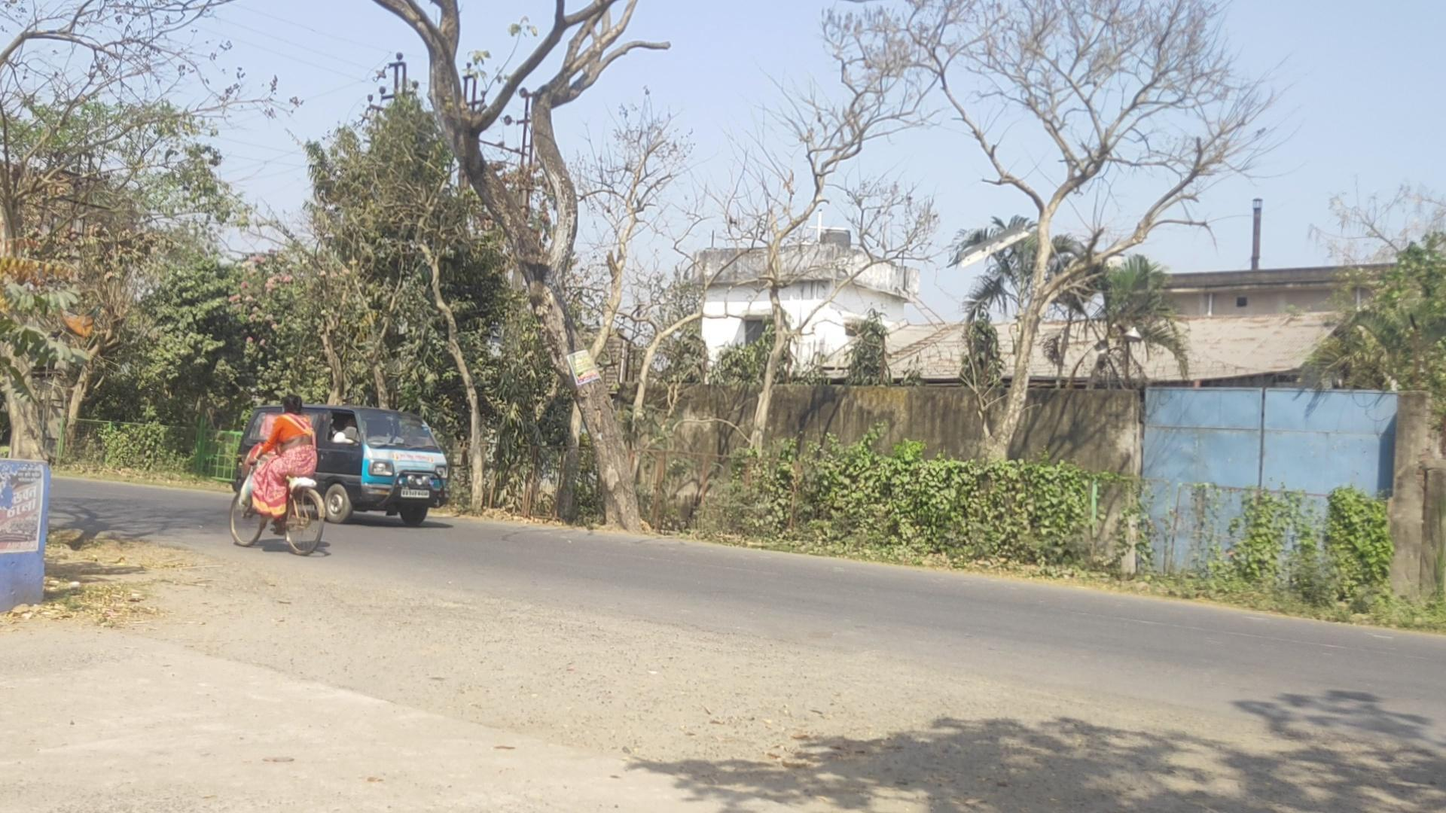bike: (230, 394, 326, 555)
van: (229, 405, 448, 526)
